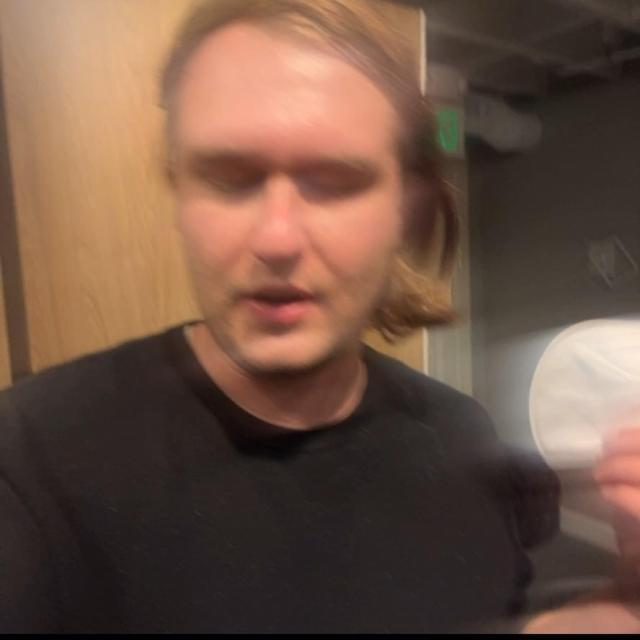person: (1, 0, 639, 636)
